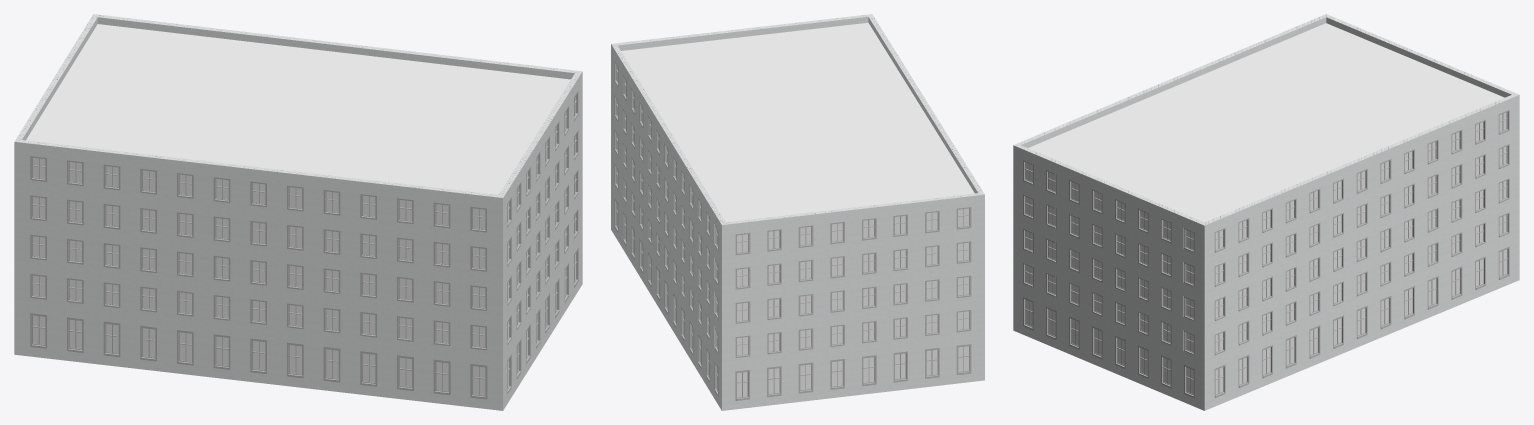
File: clohbkry902o54p02oja10eja_0.glb
3 views of the same model, side by side, from view 1: azimuth 30°, elevation 25°; view 2: azimuth 150°, elevation 25°; view 3: azimuth 270°, elevation 25° (orthographic). The views are drawn at different scales.
Visible parts, largest first — view 1: mesh_Brick, mesh_CityEnginePBRShader, mesh_Rim, mesh_Glass; view 2: mesh_Brick, mesh_CityEnginePBRShader, mesh_Rim, mesh_Glass; view 3: mesh_Brick, mesh_CityEnginePBRShader, mesh_Rim, mesh_Glass.
Part boxes in pixels (left/top/right/bottom): mesh_Brick: left=14, top=14, right=582, bottom=410; mesh_CityEnginePBRShader: left=26, top=24, right=570, bottom=194; mesh_Rim: left=30, top=91, right=578, bottom=399; mesh_Glass: left=33, top=97, right=575, bottom=395; mesh_Brick: left=611, top=14, right=984, bottom=410; mesh_CityEnginePBRShader: left=621, top=22, right=974, bottom=222; mesh_Rim: left=614, top=61, right=971, bottom=400; mesh_Glass: left=617, top=66, right=968, bottom=397; mesh_Brick: left=1013, top=14, right=1519, bottom=410; mesh_CityEnginePBRShader: left=1028, top=23, right=1504, bottom=222; mesh_Rim: left=1023, top=110, right=1509, bottom=398; mesh_Glass: left=1025, top=112, right=1506, bottom=394.
Bounding box in the file's own units: 46.26 × 18.89 × 46.8.
4 materials, 1 textured.
